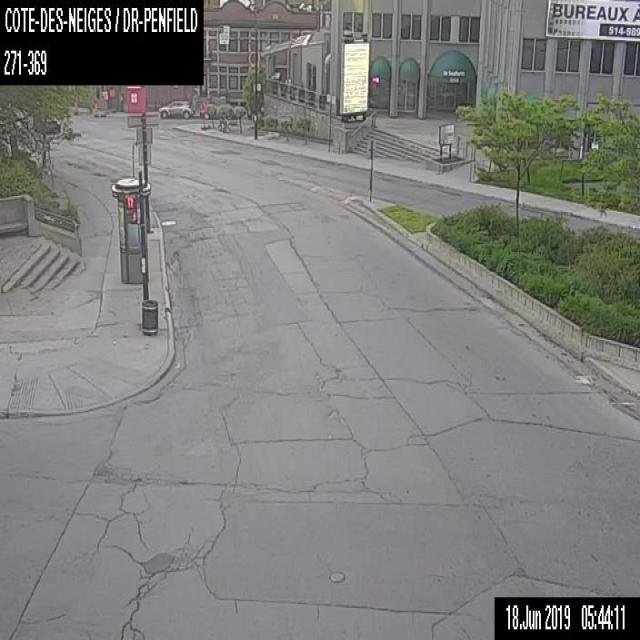vehicle: (157, 96, 194, 119), (36, 116, 60, 134)
